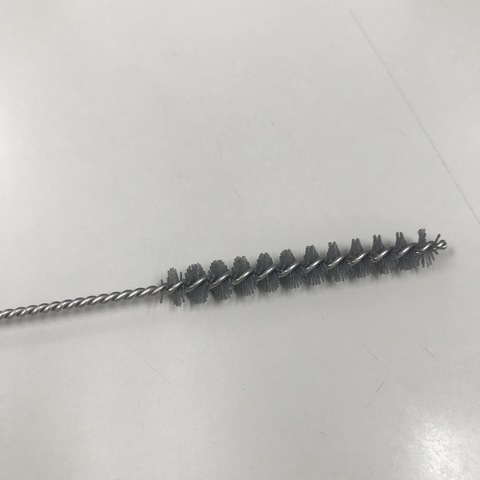Twist Brush-A: (1, 227, 459, 329)
